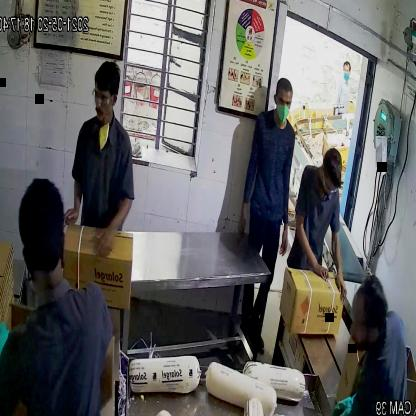goggles: (91, 84, 122, 106)
no_goggles: (275, 93, 294, 109)
